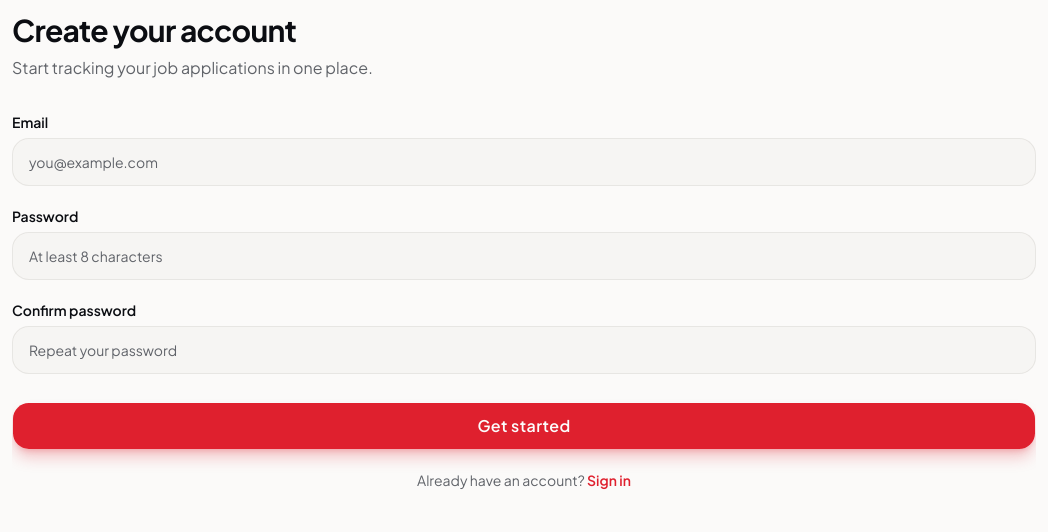
Test case: SignupForm › shows validation error for mismatched passwords
Type "user@example.com" into the field labelled "Email". click: (524, 162)
box: [12,138,1036,186]
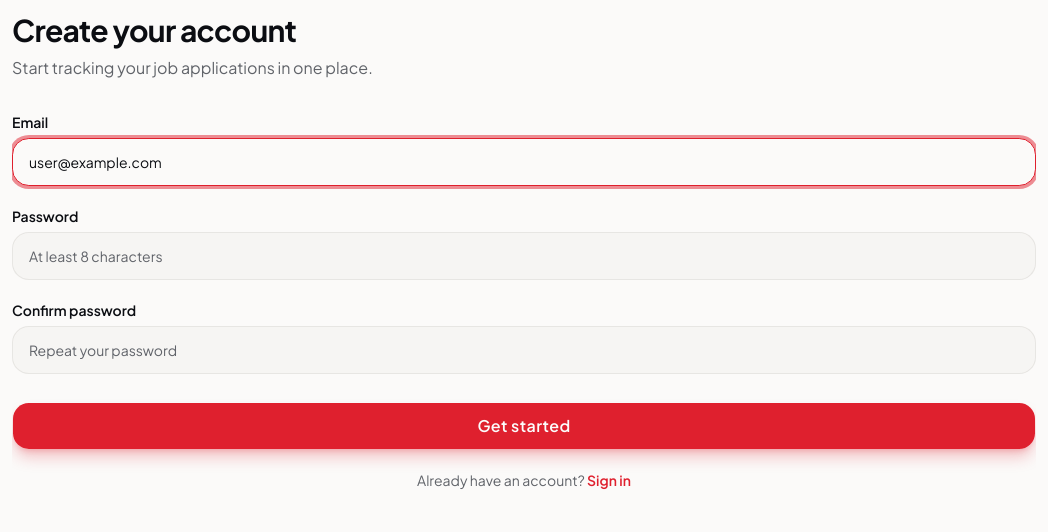
Type "password123" into the password field labelled "Password". click: (524, 256)
box: [12,232,1036,280]
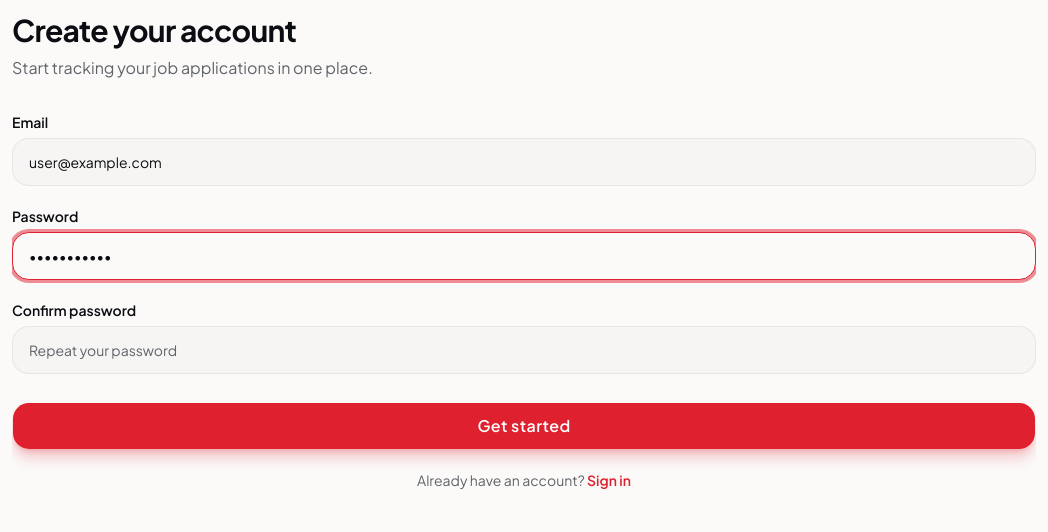
Type "different123" into the password field labelled "Confirm password". click: (524, 350)
box: [12,326,1036,374]
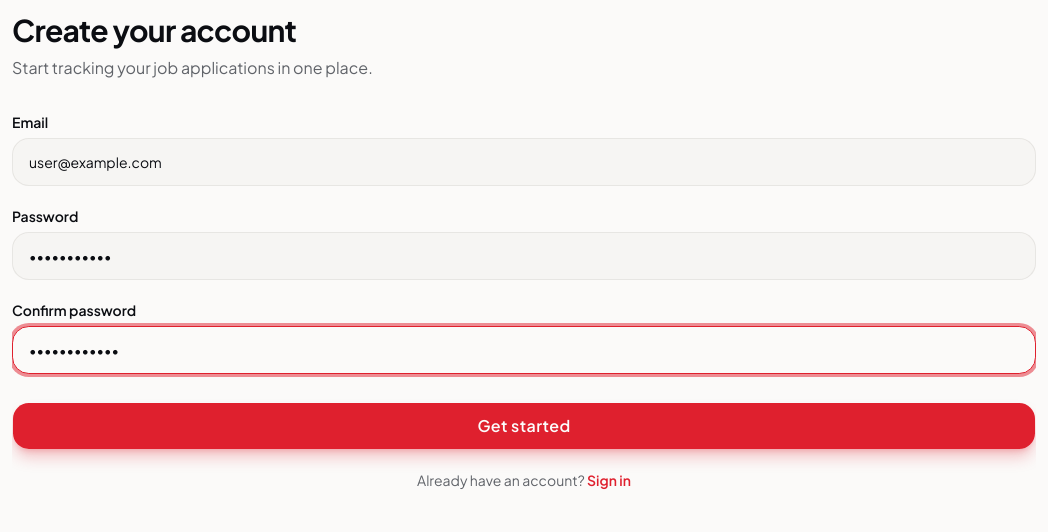
Click the button "Get started". click: (524, 426)
box: [12,402,1036,450]
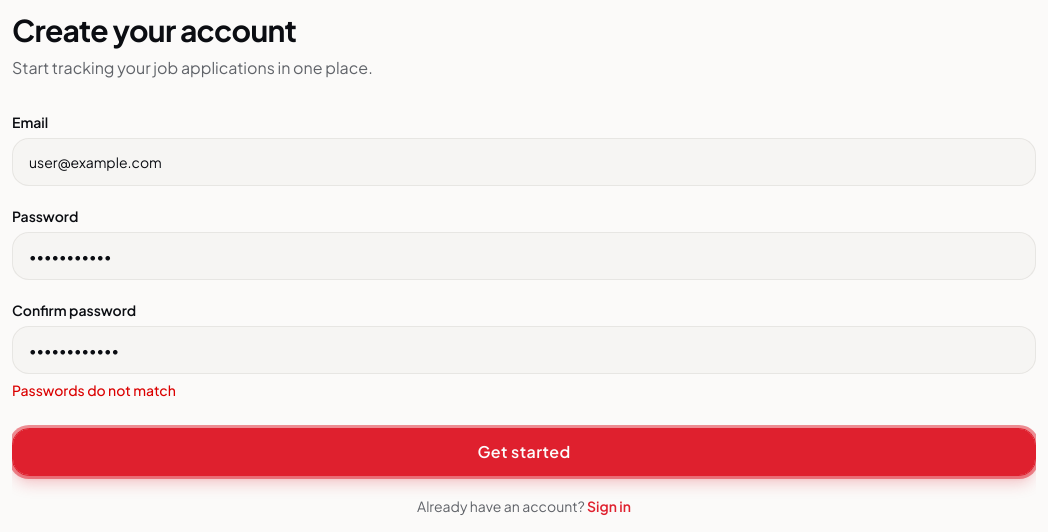
Result: the text "Passwords do not match" is shown at [12,381,176,399]
